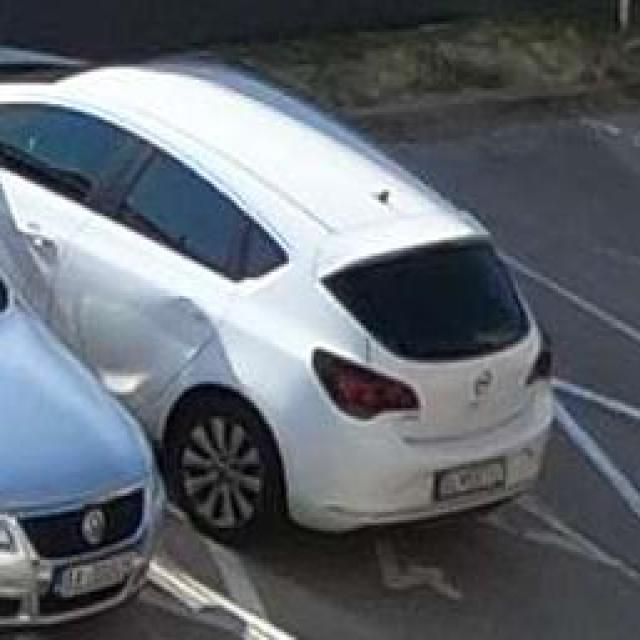Car: (0, 56, 567, 528)
